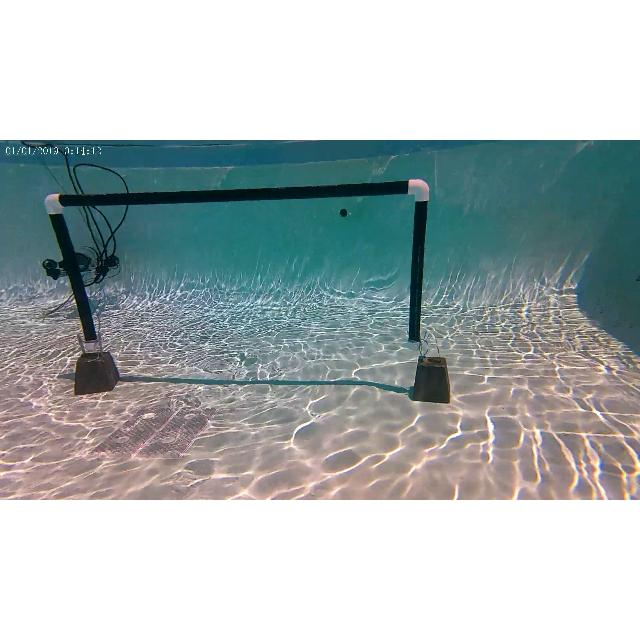prequal gate: (43, 179, 431, 353)
prequal gate leg l: (41, 185, 123, 397)
prequal gate leg r: (392, 177, 456, 406)
